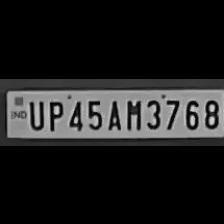3: (143, 96, 161, 130)
4: (65, 96, 83, 130)
5: (84, 96, 103, 130)
6: (182, 96, 200, 128)
7: (162, 96, 178, 128)
8: (202, 96, 220, 128)
A: (105, 96, 123, 130)
M: (122, 96, 142, 130)
P: (45, 96, 63, 130)
U: (26, 97, 44, 129)
